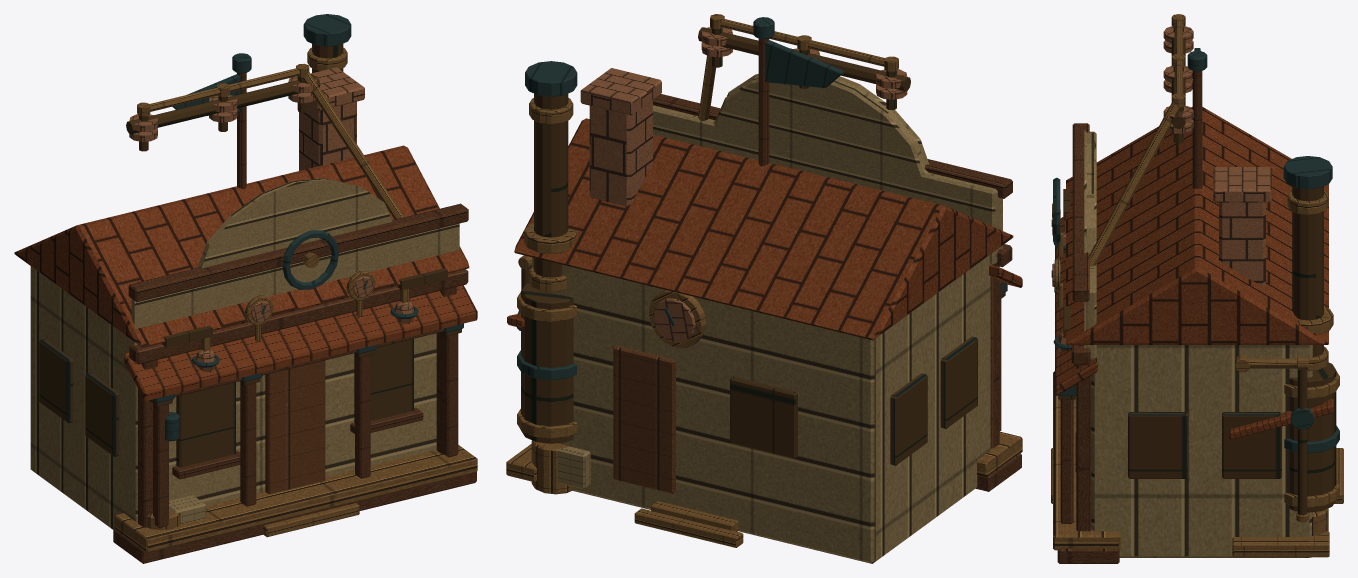
Rendered from claim-office.e3.glb.
3 views of the same model, side by side, from view 1: azimuth 30°, elevation 25°; view 2: azimuth 150°, elevation 25°; view 3: azimuth 270°, elevation 25° (orthographic). The views are drawn at different scales.
Parts seen in each view (by area): view 1: ClaimOfficeE3; view 2: ClaimOfficeE3; view 3: ClaimOfficeE3.
Part boxes in pixels (box(x1,y1,x2,y2)): ClaimOfficeE3: box(14, 14, 477, 563); ClaimOfficeE3: box(506, 14, 1022, 563); ClaimOfficeE3: box(1051, 14, 1343, 563).
Bounding box in the file's own units: 4.26 × 5.02 × 3.12.
1 material, 1 textured.
